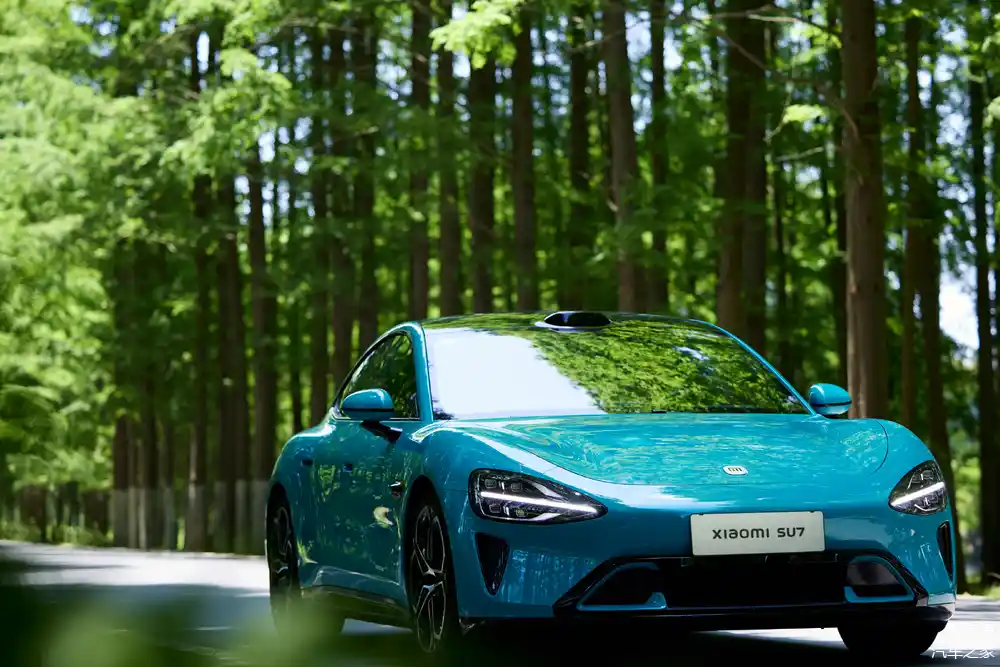su7: (253, 298, 974, 651)
